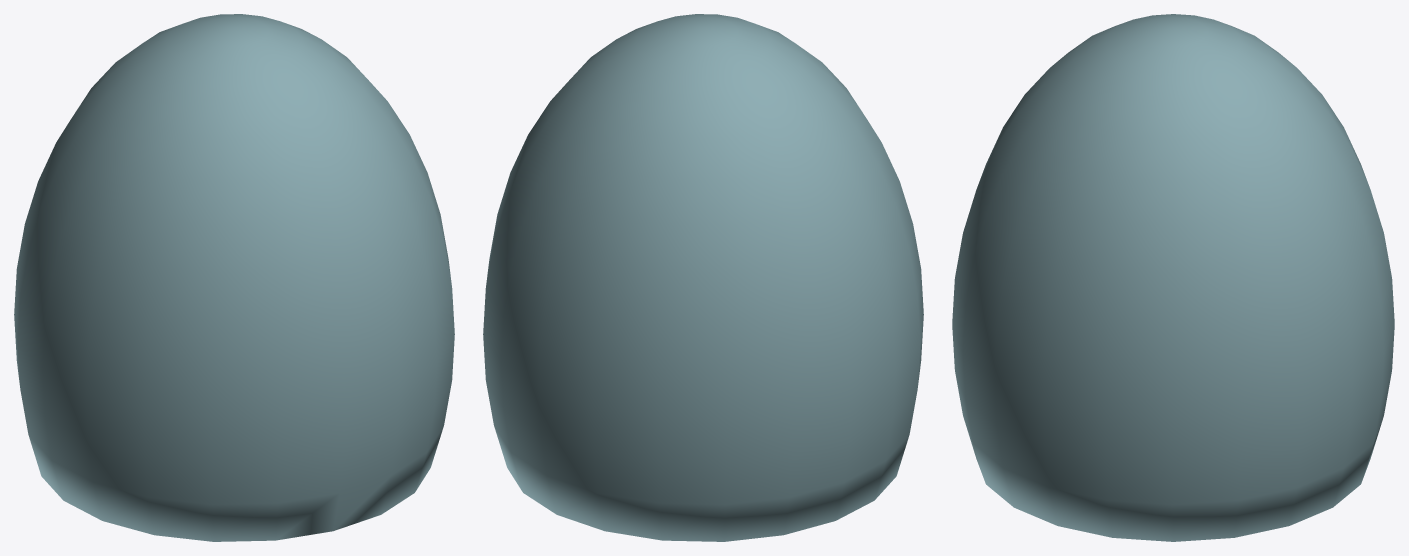
File: Basic_Body.fbx
3 views of the same model, side by side, from view 1: azimuth 30°, elevation 25°; view 2: azimuth 150°, elevation 25°; view 3: azimuth 270°, elevation 25° (orthographic).
Parts seen in each view (by area): view 1: Body; view 2: Body; view 3: Body.
Part boxes in pixels (<box>): Body: <box>14,14,454,541</box>; Body: <box>483,14,923,541</box>; Body: <box>952,14,1394,541</box>.
Size of the model in its own units: 2 by 2.14 by 2.
